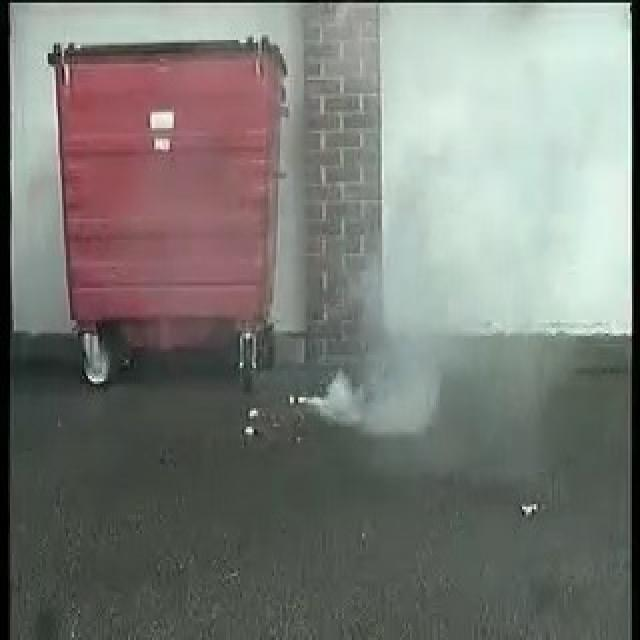smoke: (306, 250, 450, 435)
